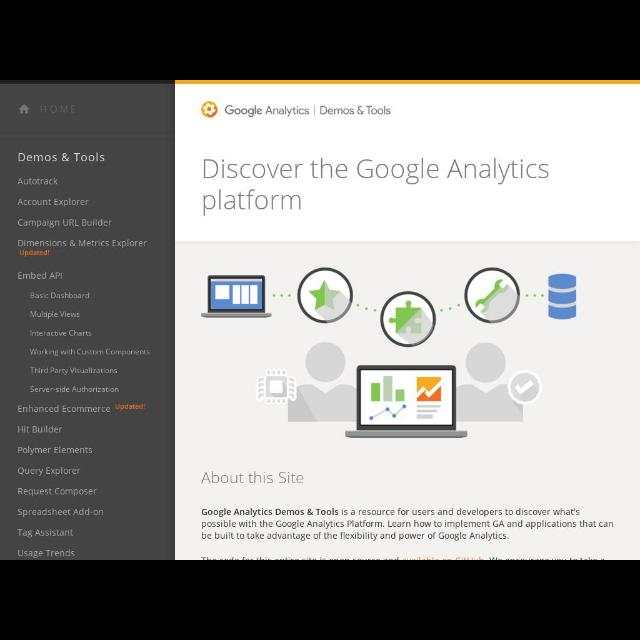icon: (18, 104, 30, 116)
image: (198, 256, 592, 454), (200, 101, 220, 119)
text: (199, 151, 551, 219), (199, 504, 615, 546), (198, 468, 306, 487), (30, 344, 150, 358), (224, 103, 312, 119), (16, 402, 112, 416), (17, 239, 147, 249), (18, 152, 108, 166), (28, 363, 118, 377), (16, 444, 94, 460), (18, 218, 112, 230), (16, 506, 104, 518), (319, 104, 393, 118), (17, 486, 99, 498), (16, 197, 90, 210), (28, 385, 122, 395), (28, 328, 96, 340), (17, 466, 83, 478), (15, 270, 63, 284), (28, 308, 82, 320), (18, 423, 64, 437), (29, 291, 92, 301), (18, 548, 76, 558), (17, 528, 75, 536), (40, 104, 78, 116), (16, 178, 58, 186), (114, 402, 148, 410), (20, 250, 50, 258)
